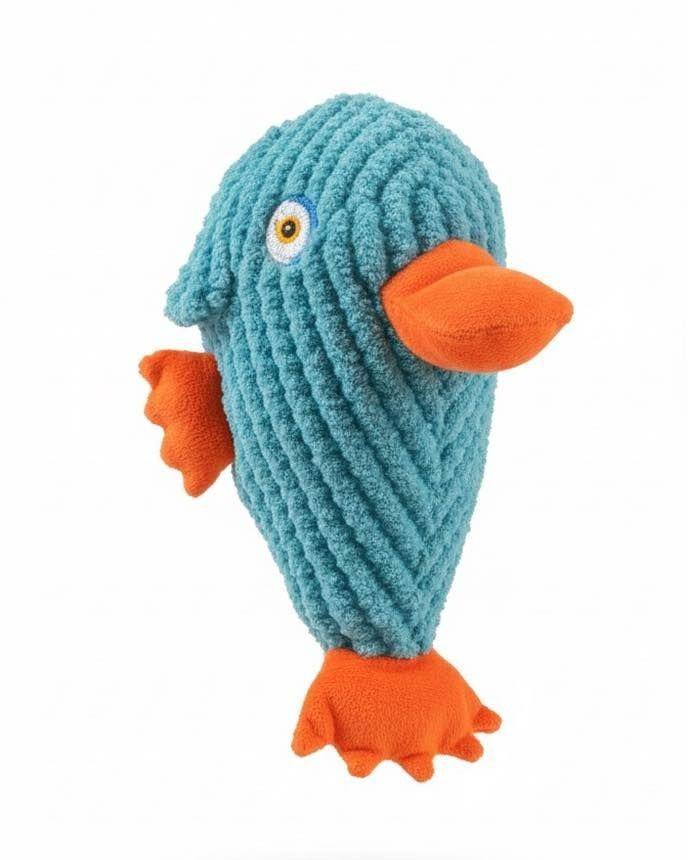non-dog: (140, 93, 574, 782)
